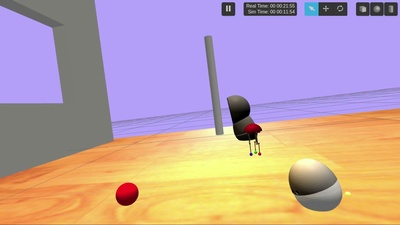mira_robot: (289, 159, 342, 212)
